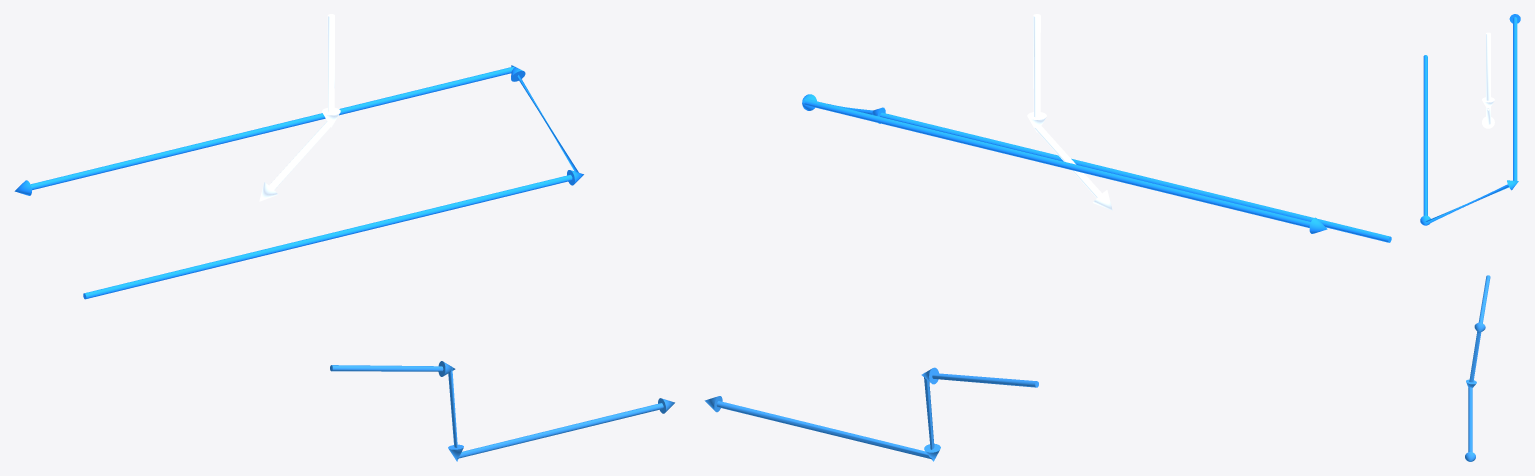
The model's file is hotwell_flow.glb.
3 views of the same model, side by side, from view 1: azimuth 30°, elevation 25°; view 2: azimuth 150°, elevation 25°; view 3: azimuth 270°, elevation 25° (orthographic). The views are drawn at different scales.
Parts seen in each view (by area): view 1: cooling_water, condensate_out, exhaust_steam; view 2: cooling_water, condensate_out, exhaust_steam; view 3: cooling_water, condensate_out, exhaust_steam.
Part boxes in pixels (<box>): cooling_water: <box>14,65,583,299</box>; condensate_out: <box>330,361,674,461</box>; exhaust_steam: <box>259,14,340,201</box>; cooling_water: <box>802,94,1391,242</box>; condensate_out: <box>704,367,1038,461</box>; exhaust_steam: <box>1027,14,1112,210</box>; cooling_water: <box>1420,14,1520,225</box>; condensate_out: <box>1465,275,1490,461</box>; exhaust_steam: <box>1482,32,1494,128</box>.
Size of the model in its own units: 2.8 by 1.98 by 0.5624.
